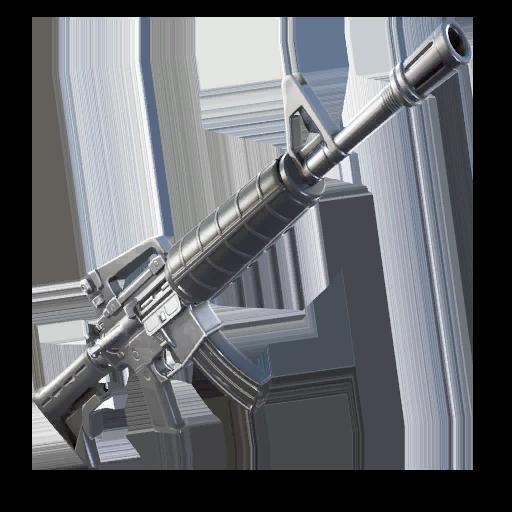gun: (34, 22, 464, 474)
